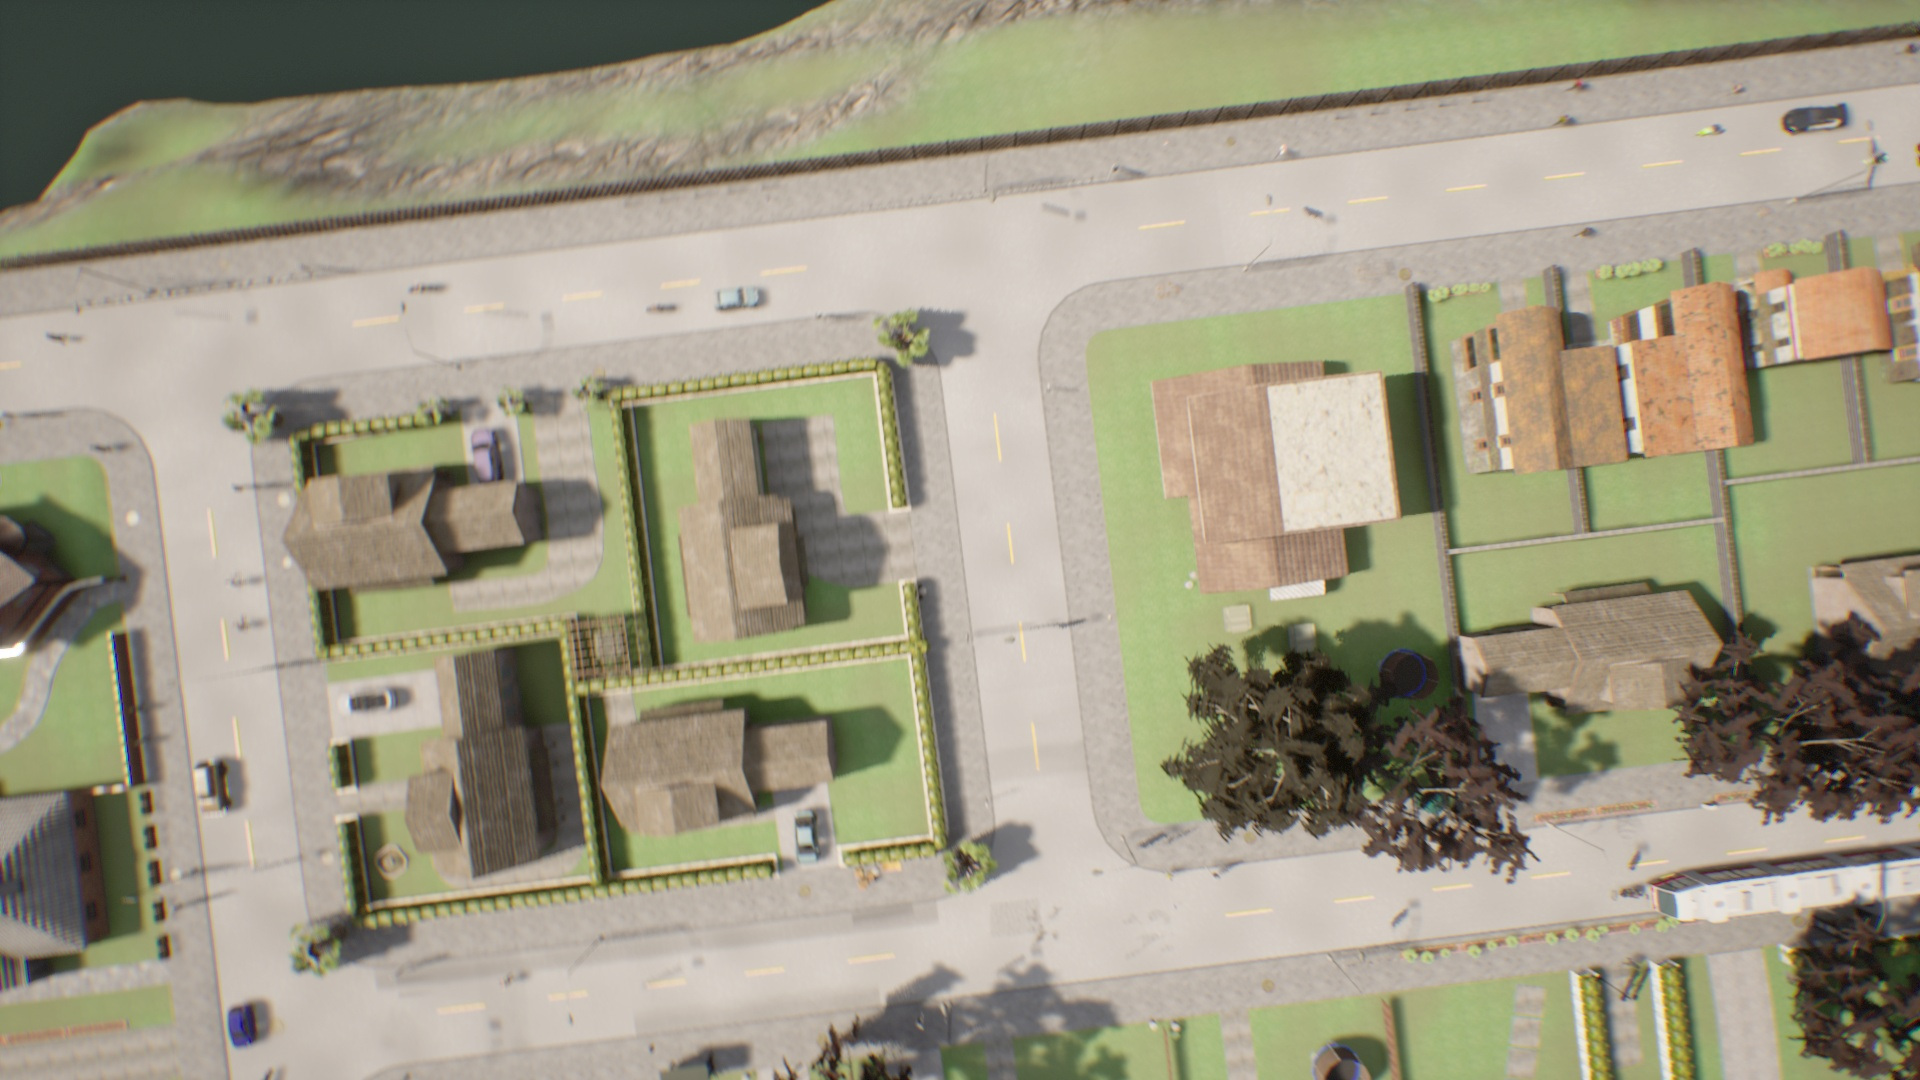Bus: (1639, 856, 1920, 910)
Car: (193, 760, 235, 815), (789, 802, 822, 864), (1789, 107, 1853, 136), (225, 994, 258, 1048), (705, 286, 773, 313)
Motorcycle: (393, 284, 450, 295), (644, 301, 683, 314), (1704, 123, 1725, 140)
